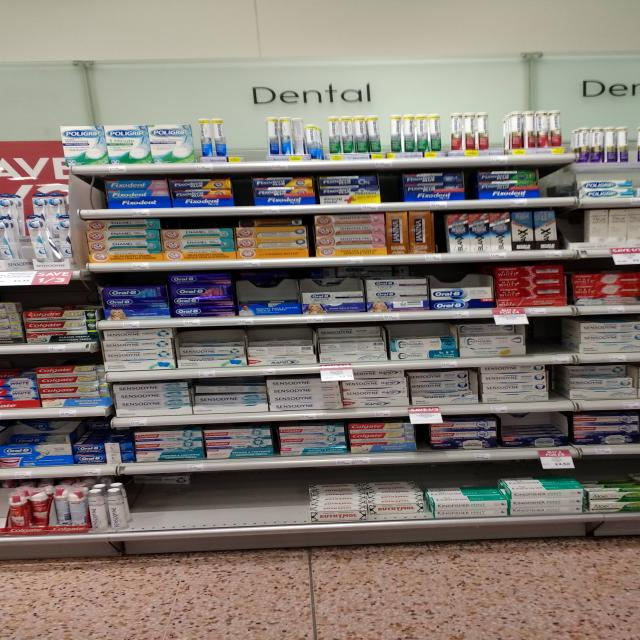void: (268, 470, 296, 543), (239, 471, 266, 542), (190, 472, 215, 548), (231, 116, 264, 172), (214, 471, 239, 542), (524, 318, 551, 366), (554, 318, 576, 366)
